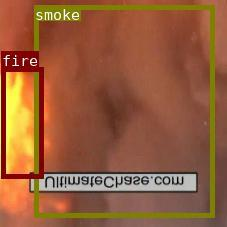fire: (0, 66, 42, 177)
smoke: (33, 5, 214, 216)
